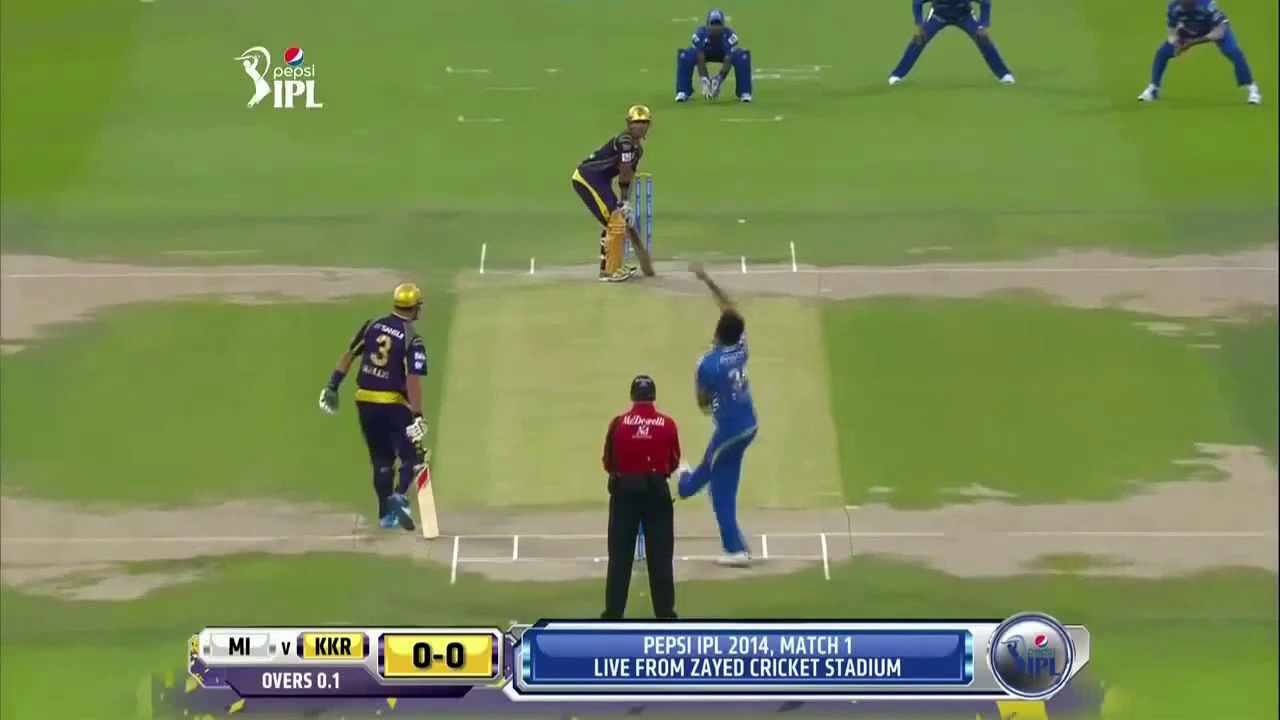bat: (414, 443, 440, 539), (628, 229, 657, 278)
